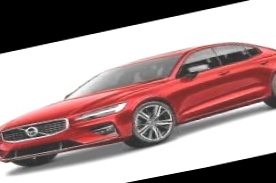car: (0, 13, 276, 182)
